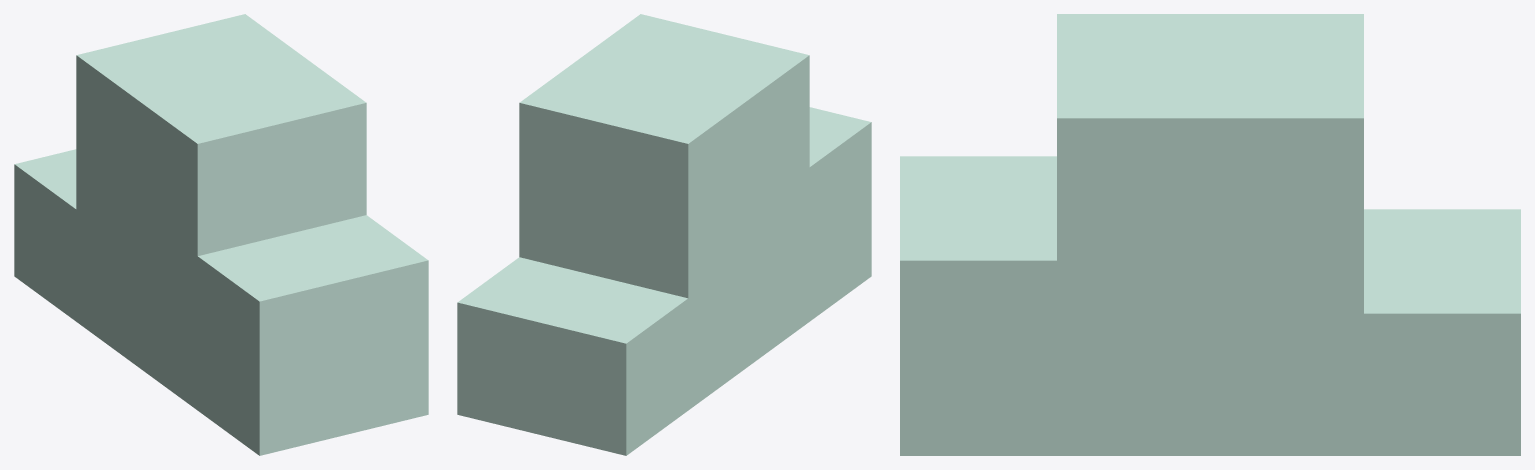
The picture shows the model from 3 angles, left to right: view 1: azimuth 30°, elevation 25°; view 2: azimuth 150°, elevation 25°; view 3: azimuth 270°, elevation 25°; orthographic projection. The views are drawn at different scales.
Parts seen in each view (by area): view 1: Renderer Node; view 2: Renderer Node; view 3: Renderer Node.
Boxes of the visible parts, box(x1,y1,x2,y2) form: Renderer Node: box(14, 14, 428, 455); Renderer Node: box(457, 14, 871, 455); Renderer Node: box(900, 14, 1520, 455).
Size of the model in its own units: 0.5313 by 0.8016 by 1.34.
